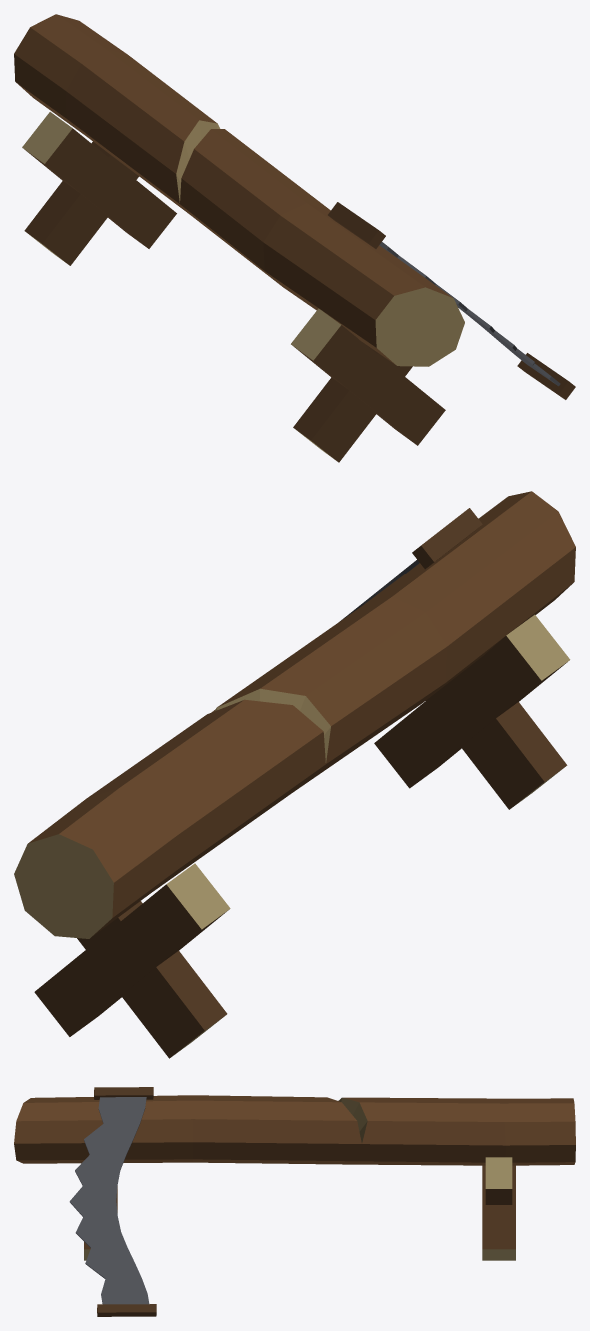
Rendered from Sawmill Saw.glb.
3 renders of one model, top to bottom at view 1: azimuth 30°, elevation 25°; view 2: azimuth 150°, elevation 25°; view 3: azimuth 270°, elevation 25°, orthographic. The views are drawn at different scales.
Parts seen in each view (by area): view 1: Sawmill_saw; view 2: Sawmill_saw; view 3: Sawmill_saw.
Boxes of the visible parts, <box> form: Sawmill_saw: <box>14,14,575,462</box>; Sawmill_saw: <box>14,491,575,1058</box>; Sawmill_saw: <box>14,1087,575,1316</box>.
Bounding box in the file's own units: 0.7053 × 0.5415 × 1.7.
